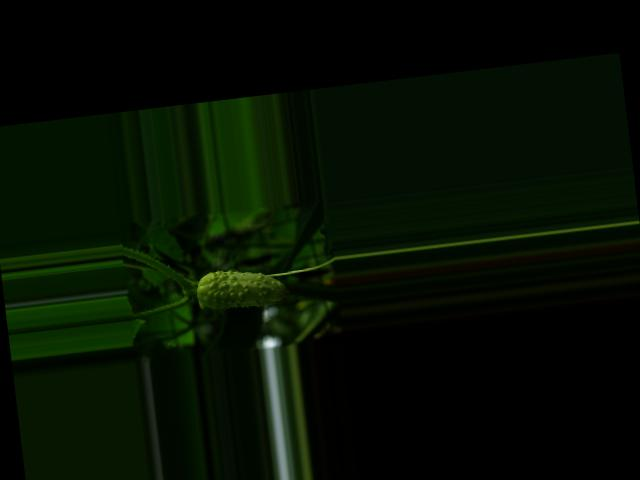cucumber: (194, 262, 291, 312)
